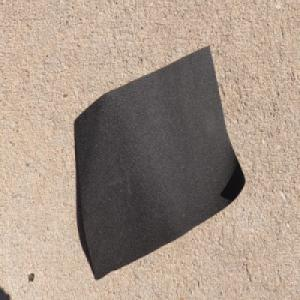PaintChip: (73, 44, 246, 283)
